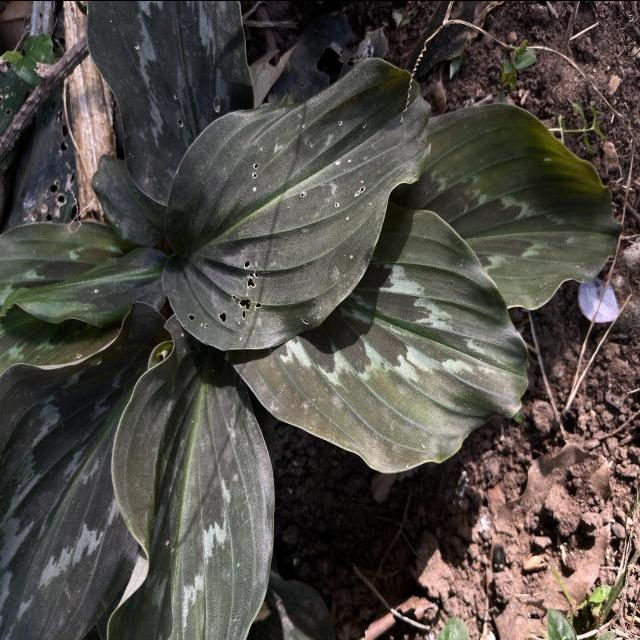Kaempferia galanga linn: (222, 196, 530, 477), (157, 53, 435, 353), (103, 311, 277, 640), (0, 298, 167, 640), (428, 98, 626, 312), (83, 0, 256, 206), (0, 242, 170, 328)
